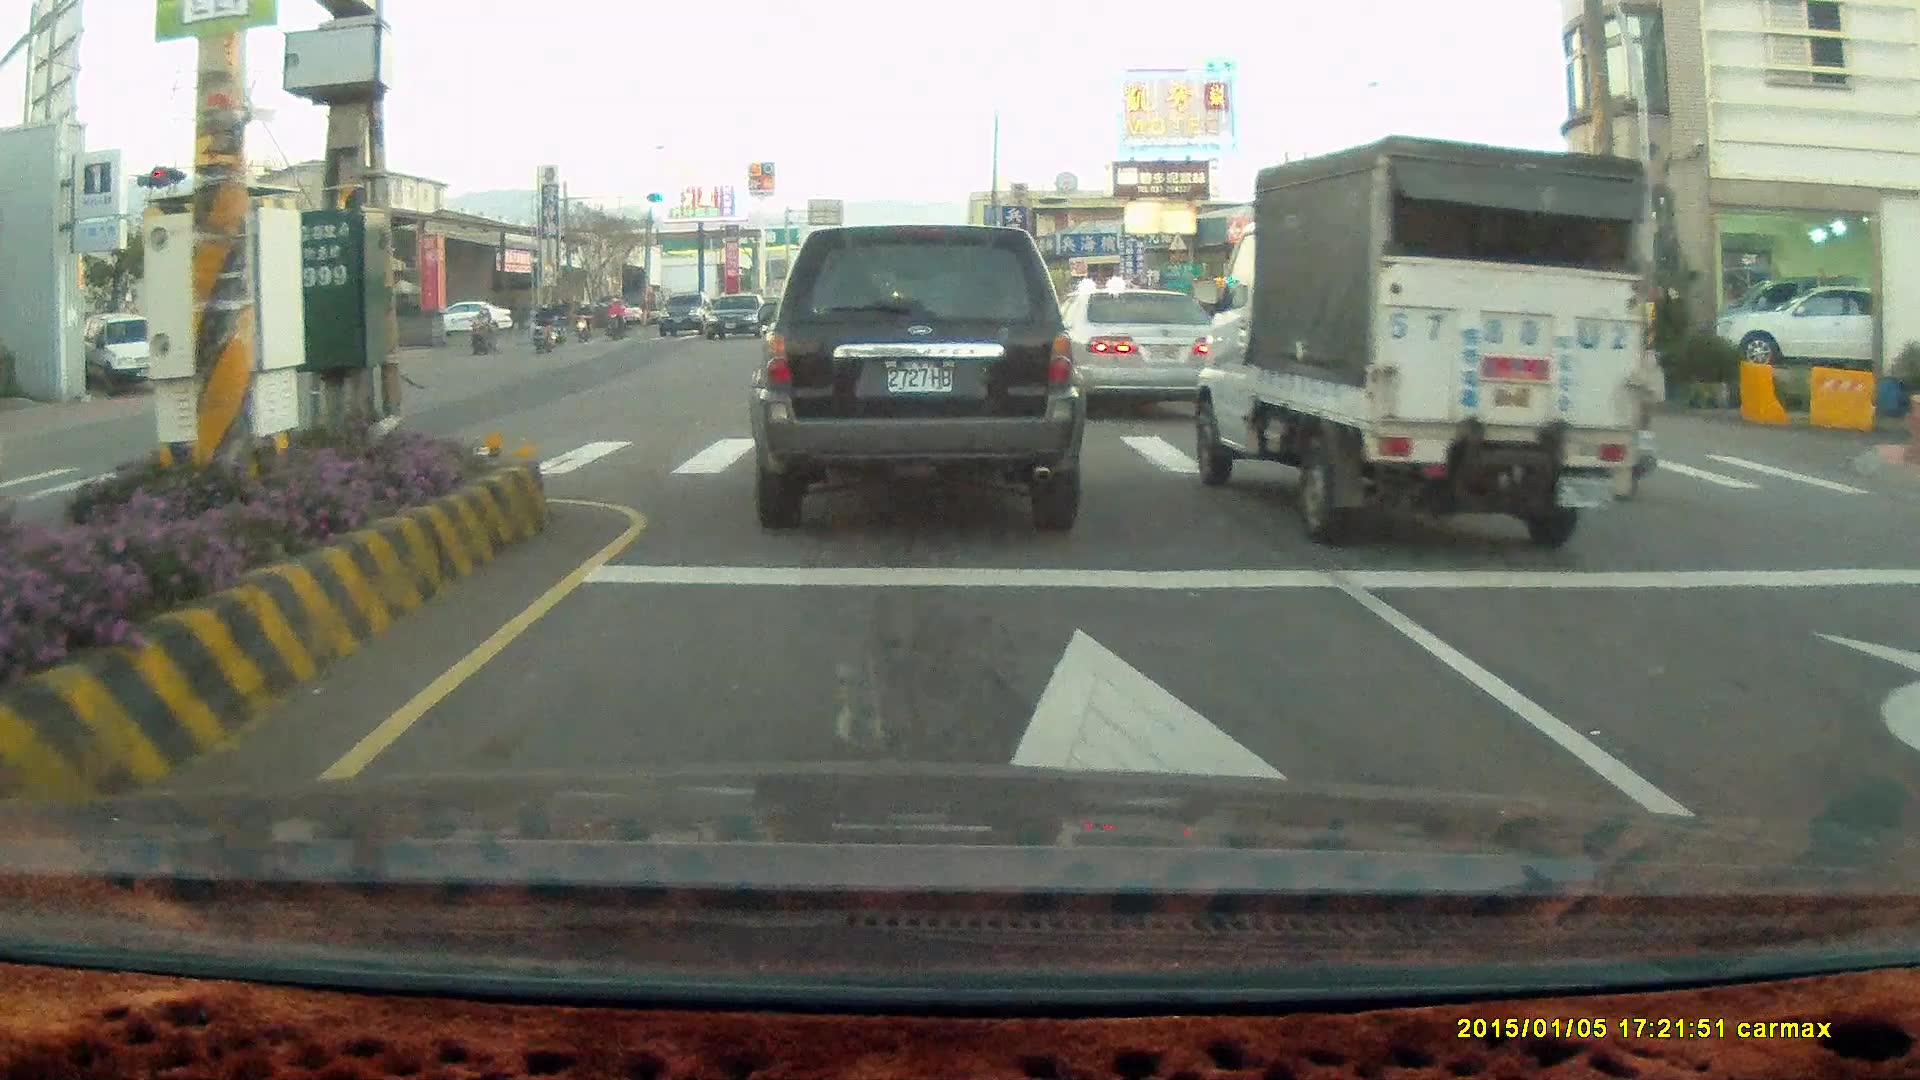rider: (466, 301, 502, 355), (529, 302, 558, 356), (571, 295, 594, 339), (605, 298, 625, 338)
vehicle: (1196, 133, 1651, 549), (747, 223, 1088, 534), (1036, 286, 1230, 417), (1058, 288, 1234, 428), (1711, 283, 1917, 377), (1724, 286, 1878, 374), (67, 314, 176, 390), (444, 301, 515, 339)
